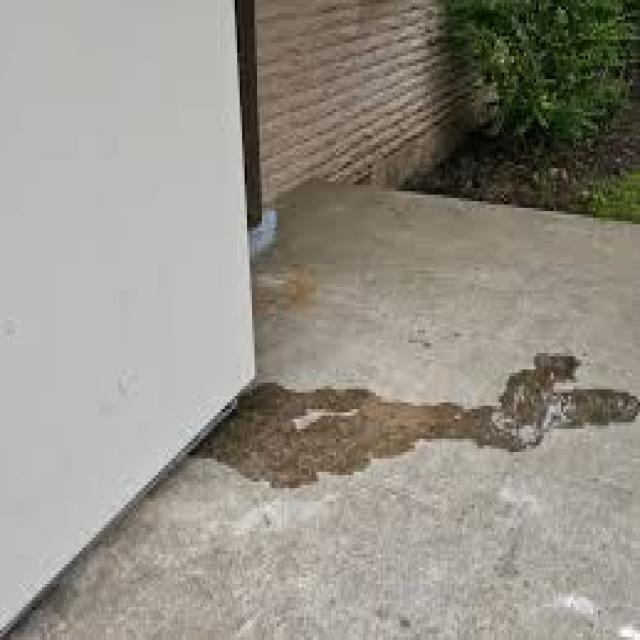water accumulation: (185, 349, 640, 490)
